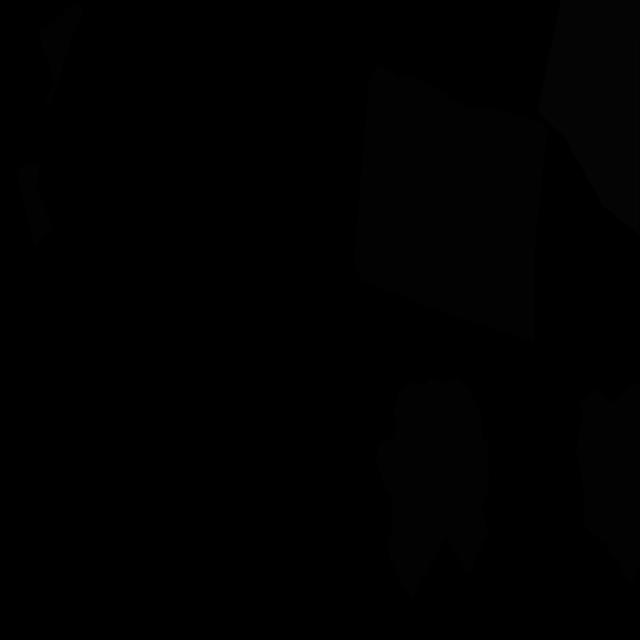cardboard: (354, 63, 548, 342), (375, 378, 490, 598), (576, 381, 640, 583), (16, 160, 54, 246)
soft_plastic: (538, 0, 640, 236)
